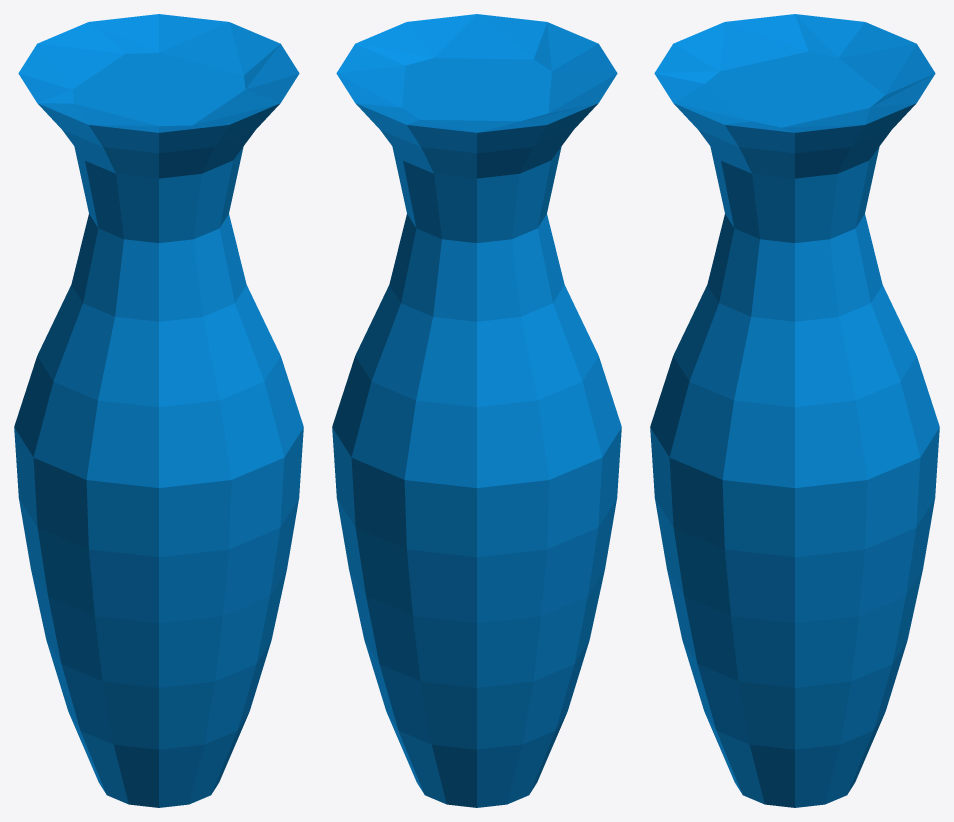
File: Vase.glb
3 renders of one model, left to right at view 1: azimuth 30°, elevation 25°; view 2: azimuth 150°, elevation 25°; view 3: azimuth 270°, elevation 25°, orthographic.
Parts seen in each view (by area): view 1: Vase; view 2: Vase; view 3: Vase.
Boxes of the visible parts, box(x1,y1,x2,y2) form: Vase: box(14, 14, 303, 807); Vase: box(332, 14, 621, 807); Vase: box(650, 14, 939, 807).
Size of the model in its own units: 0.3373 by 0.9108 by 0.3373.
